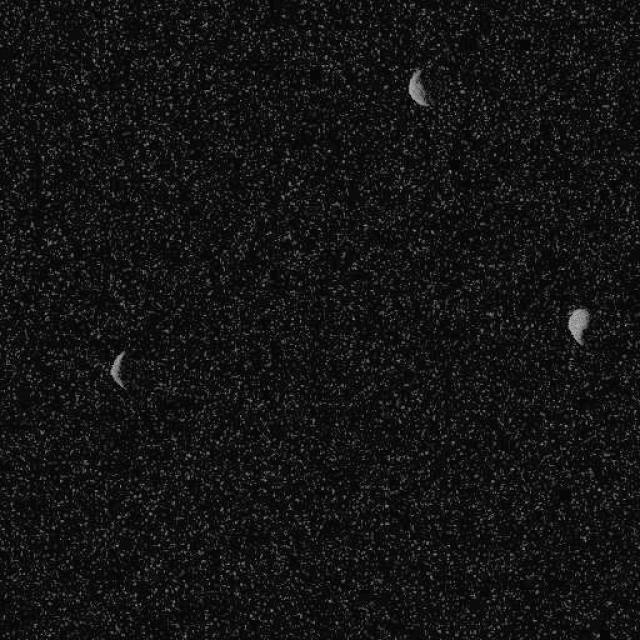D2: (406, 66, 430, 108), (566, 306, 590, 345), (109, 349, 128, 390)
